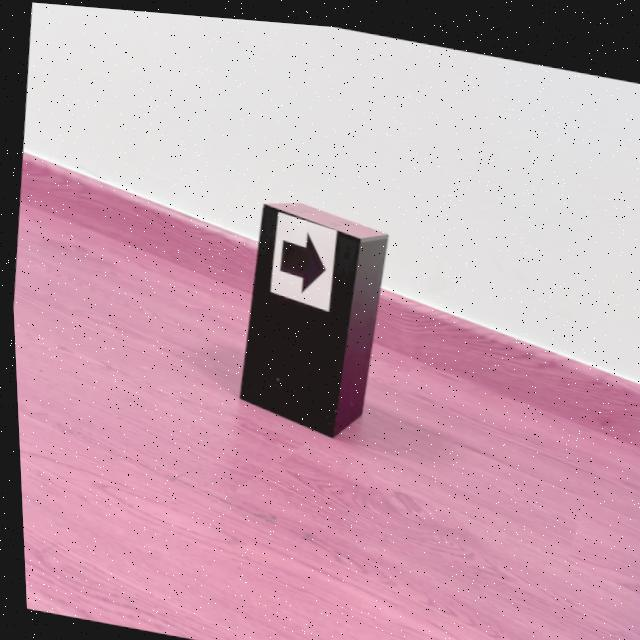RIGHT: (277, 228, 323, 287)
